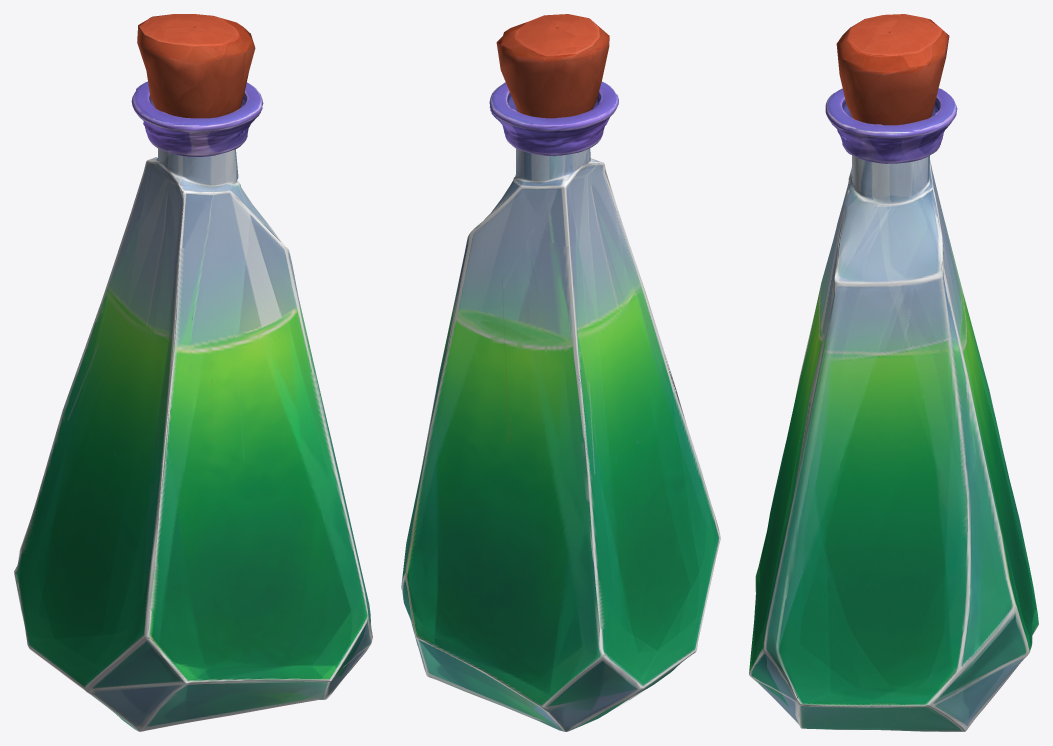
File: Potion.fbx
3 views of the same model, side by side, from view 1: azimuth 30°, elevation 25°; view 2: azimuth 150°, elevation 25°; view 3: azimuth 270°, elevation 25° (orthographic). The views are drawn at different scales.
Visible parts, largest first — view 1: Mesh_0; view 2: Mesh_0; view 3: Mesh_0.
Part boxes in pixels (x1,y1,x2,y2): Mesh_0: (14, 14, 372, 731); Mesh_0: (401, 14, 720, 731); Mesh_0: (749, 14, 1038, 731).
Bounding box in the file's own units: 38.77 × 95.07 × 37.84.
Materials: 1 (1 with a texture image).
